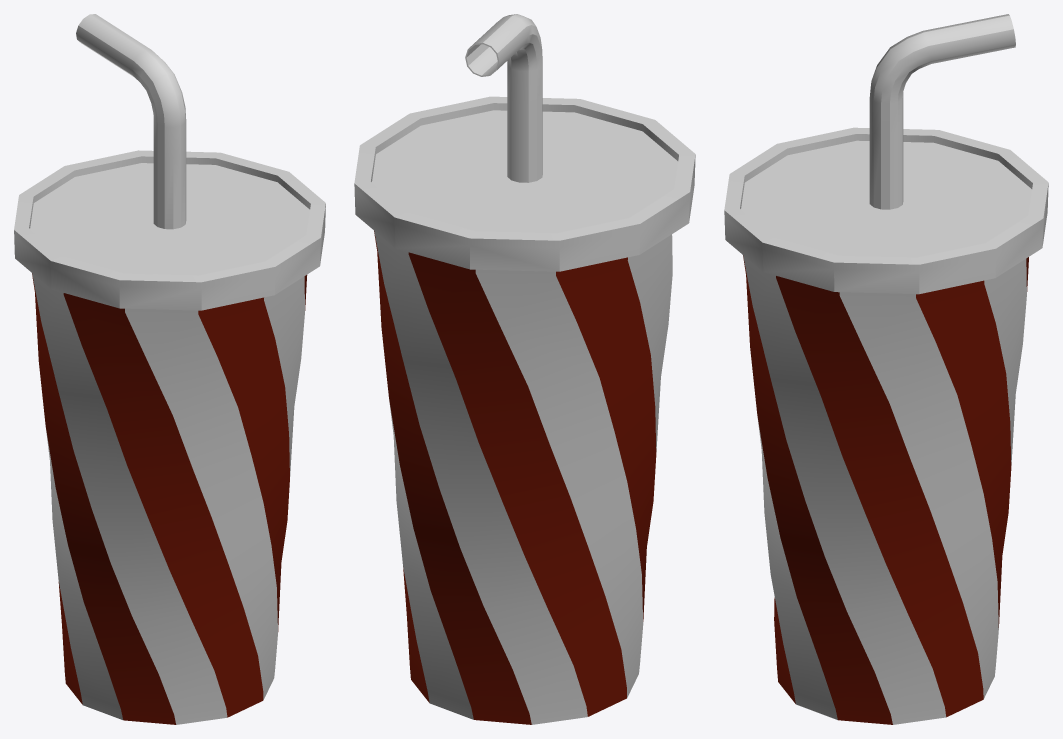
The model's file is cup.fbx.
The picture shows the model from 3 angles, left to right: view 1: azimuth 30°, elevation 25°; view 2: azimuth 150°, elevation 25°; view 3: azimuth 270°, elevation 25°; orthographic projection. The views are drawn at different scales.
Parts seen in each view (by area): view 1: cup; view 2: cup; view 3: cup.
Part boxes in pixels (bbox=[...]): cup: bbox=[14, 14, 325, 724]; cup: bbox=[354, 14, 695, 724]; cup: bbox=[724, 14, 1048, 724].
Bounding box in the file's own units: 0.4854 × 1.08 × 0.4854.
